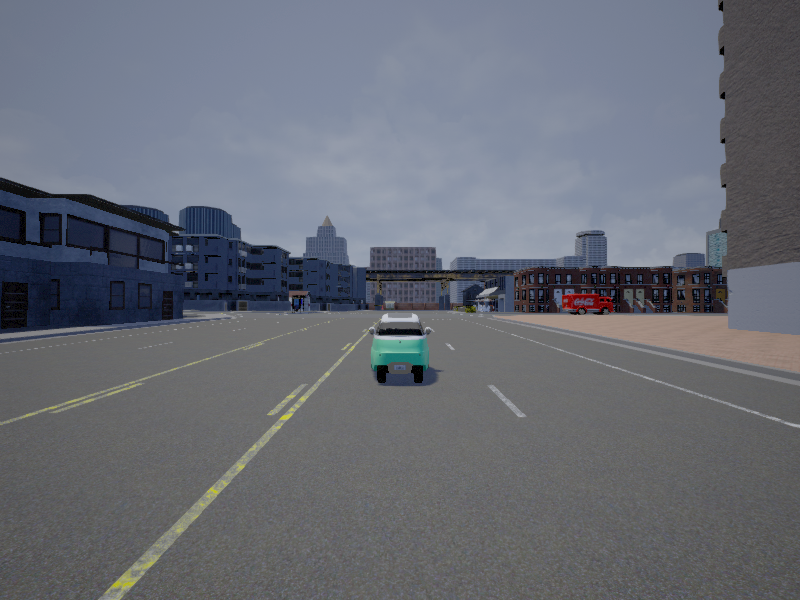Benign: (370, 312, 434, 385), (563, 294, 614, 315)
